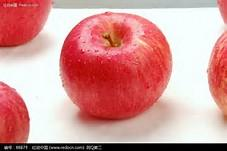apple: (63, 15, 169, 115)
